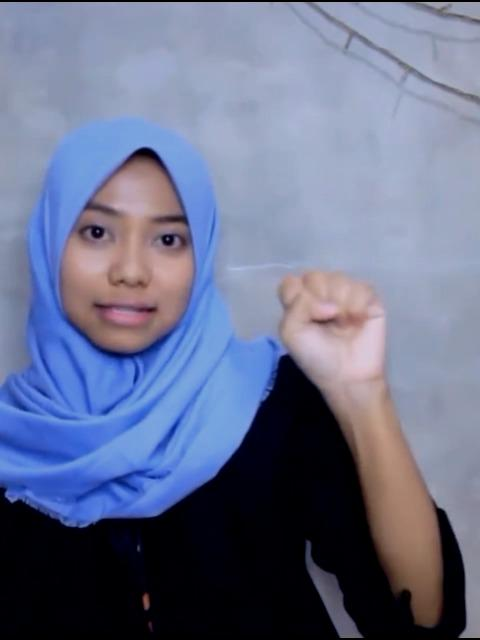S: (270, 262, 394, 386)
